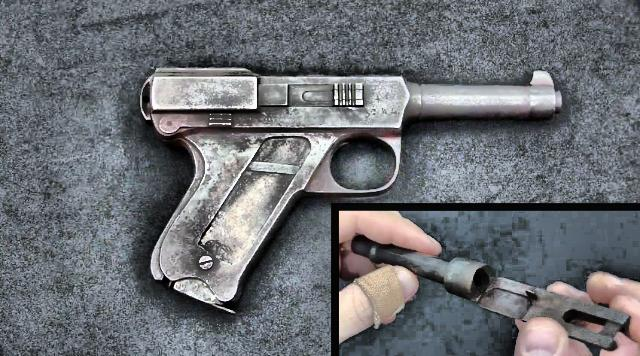pistol: (137, 61, 568, 317)
